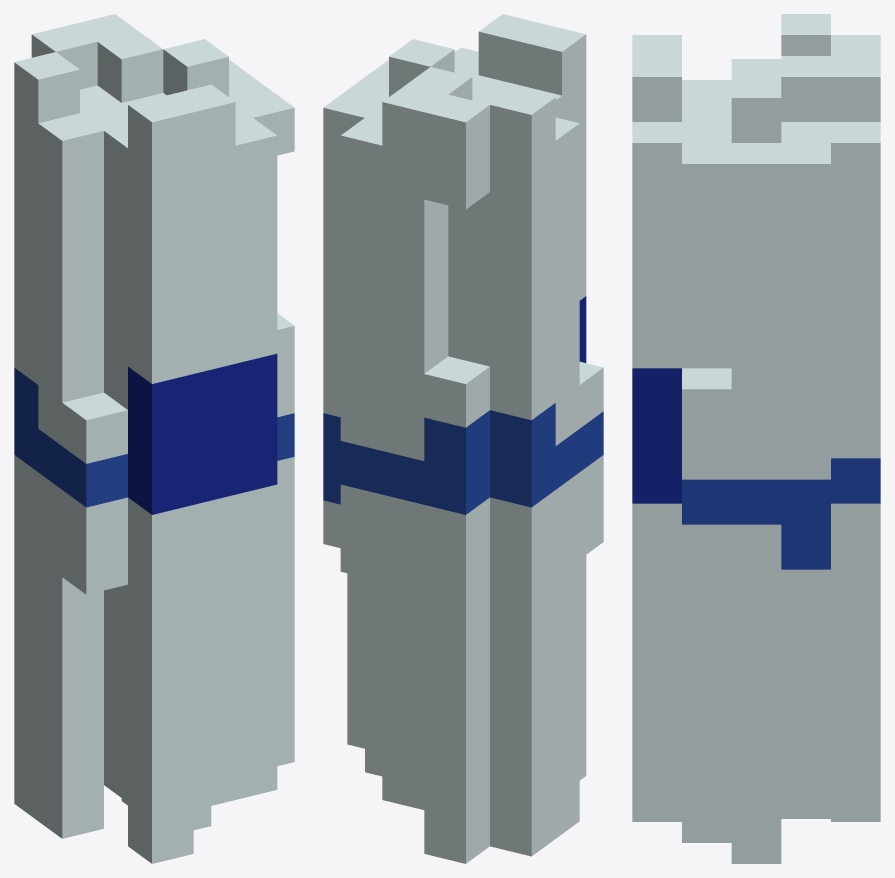
The model's file is Medieval Assets-264-Decoration - Bookshelf - Scroll - Variant2.obj.
3 views of the same model, side by side, from view 1: azimuth 30°, elevation 25°; view 2: azimuth 150°, elevation 25°; view 3: azimuth 270°, elevation 25° (orthographic). The views are drawn at different scales.
Visible parts, largest first — view 1: Decoration - Bookshelf - Scroll - Variant2; view 2: Decoration - Bookshelf - Scroll - Variant2; view 3: Decoration - Bookshelf - Scroll - Variant2.
Boxes of the visible parts, left/top/right/bottom form: Decoration - Bookshelf - Scroll - Variant2: left=14, top=14, right=294, bottom=863; Decoration - Bookshelf - Scroll - Variant2: left=323, top=14, right=603, bottom=863; Decoration - Bookshelf - Scroll - Variant2: left=632, top=14, right=880, bottom=863.
Bounding box in the file's own units: 0.5 × 1.7 × 0.5.
1 material, 1 textured.
